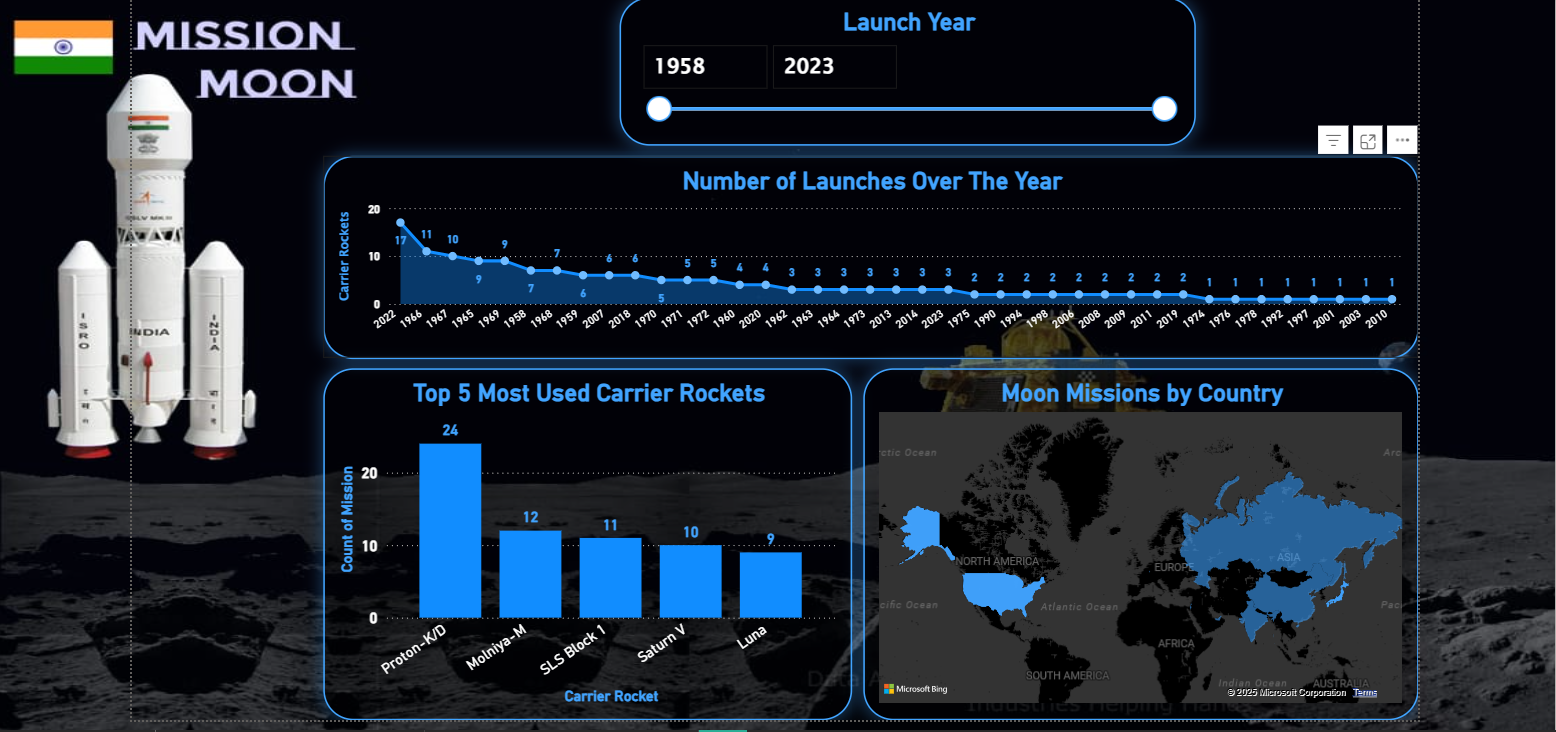

The page's visual inventory and layout, read from the dashboard file:
{"tool":"powerbi","page":{"name":"Moon Mission dashboard Page 2","canvas":[1280,720],"ordinal":1},"visuals":[{"type":"slicer","title":"Launch Year","fields":{"Values":["Data set Part 1 - Moonlanding.Launch Date.Variation.Date Hierarchy.Year"]},"box":[485.8,0,573.6,148.2],"z":0},{"type":"columnChart","title":"Top 5 Most Used Carrier Rockets","fields":{"Category":["Data set Part 1 - Moonlanding.Carrier Rocket"],"Y":["CountNonNull(Data set Part 1 - Moonlanding.Mission)"]},"box":[190,370,526.2,350],"z":1000},{"type":"areaChart","title":"Number of Launches Over The Year","fields":{"Category":["Data set Part 1 - Moonlanding.Year"],"Y":["CountNonNull(Data set Part 1 - Moonlanding.Mission)"]},"box":[190,157.5,1090,202.5],"z":2000},{"type":"filledMap","title":"Moon Missions by Country","fields":{"Category":["Data set Part 1 - Moonlanding.Operator"]},"box":[727.5,370,552.5,350],"z":3000}]}

Visuals, with their boxes on the page's 1280x720 design canvas (x1, y1, x2, y2). These are canvas units, not pixel positions in the 1556x732 screenshot, which may show the page scaled, cropped or inside an application window:
"Launch Year" slicer: <bbox>486, 0, 1059, 148</bbox>
"Top 5 Most Used Carrier Rockets" columnChart: <bbox>190, 370, 716, 720</bbox>
"Number of Launches Over The Year" areaChart: <bbox>190, 158, 1280, 360</bbox>
"Moon Missions by Country" filledMap: <bbox>728, 370, 1280, 720</bbox>
